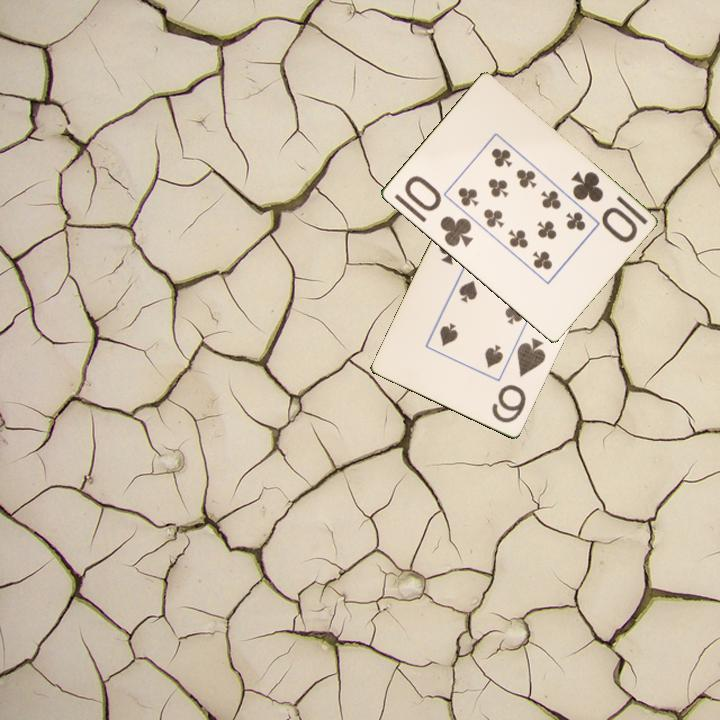10c: (400, 172, 476, 250), (566, 167, 640, 245)
6s: (488, 334, 549, 426)
